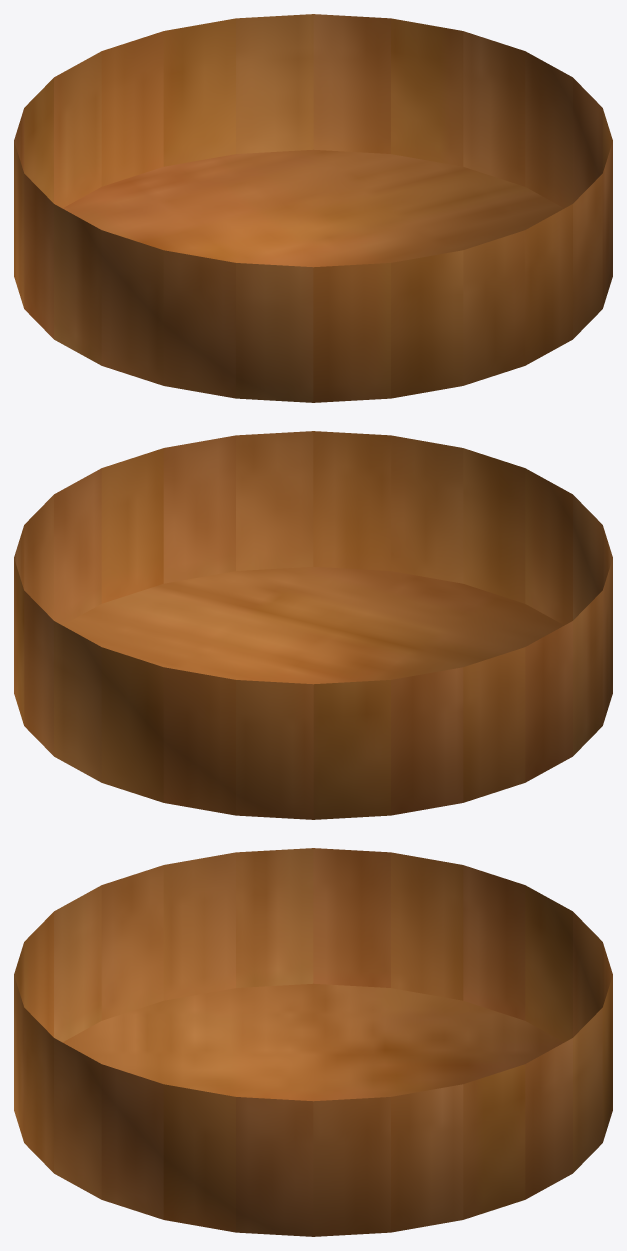
Rendered from original-45.obj.
3 renders of one model, top to bottom at view 1: azimuth 30°, elevation 25°; view 2: azimuth 150°, elevation 25°; view 3: azimuth 270°, elevation 25°, orthographic.
Parts seen in each view (by area): view 1: mesh59/mesh59-geometry#mesh59-geometry; view 2: mesh59/mesh59-geometry#mesh59-geometry; view 3: mesh59/mesh59-geometry#mesh59-geometry.
Boxes of the visible parts, box(x1,y1,x2,y2) form: mesh59/mesh59-geometry#mesh59-geometry: box(14, 14, 612, 402); mesh59/mesh59-geometry#mesh59-geometry: box(14, 431, 612, 819); mesh59/mesh59-geometry#mesh59-geometry: box(14, 848, 612, 1236).
Size of the model in its own units: 0.0212 by 0.0053 by 0.0212.
